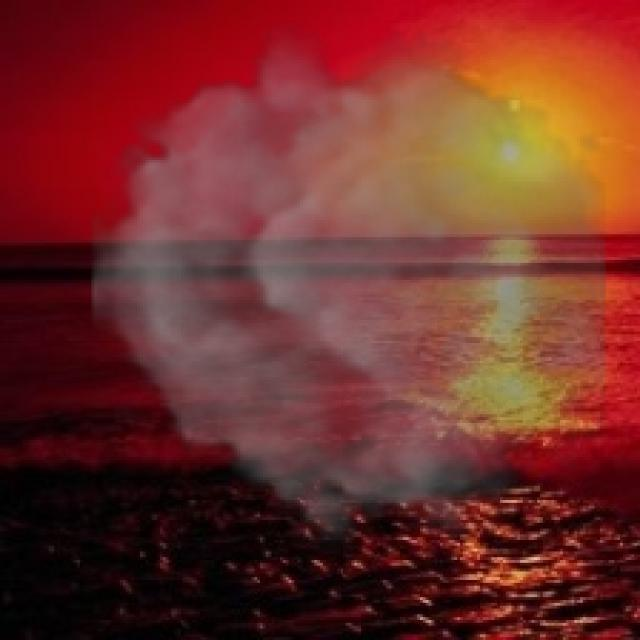Smoke: (91, 20, 606, 560)
